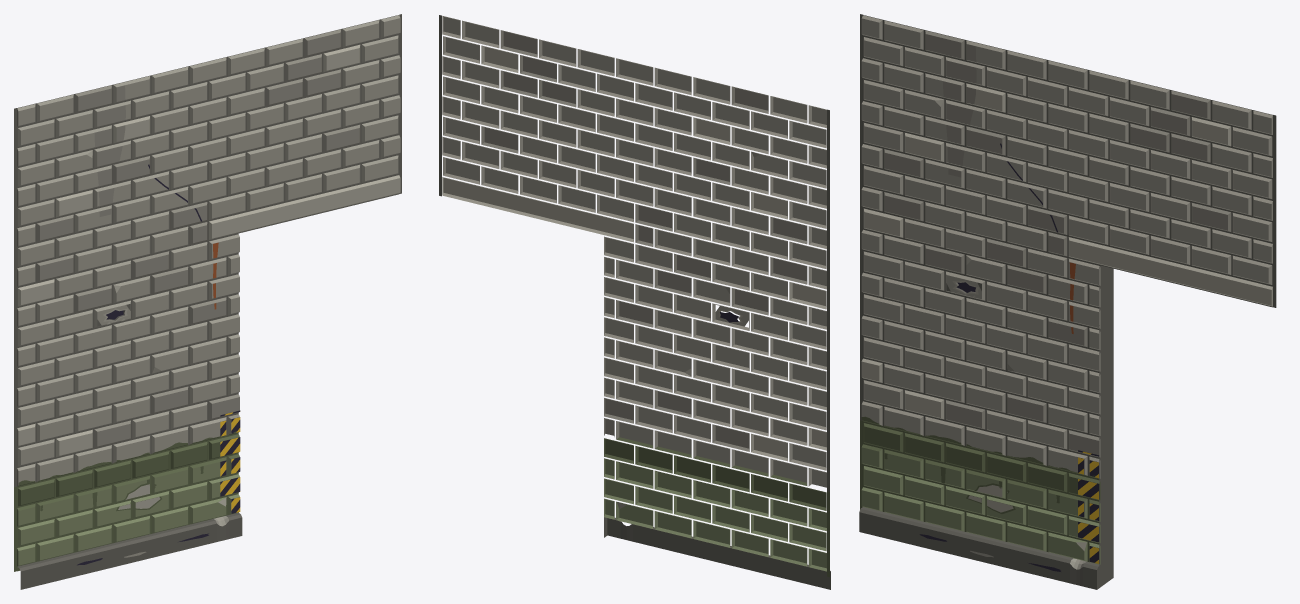
Rendered from wall_panel_pass_b.glb.
3 views of the same model, side by side, from view 1: azimuth 30°, elevation 25°; view 2: azimuth 150°, elevation 25°; view 3: azimuth 330°, elevation 25° (orthographic). The views are drawn at different scales.
Visible parts, largest first — view 1: Wall; view 2: Wall; view 3: Wall.
Part boxes in pixels (x1,y1,x2,y2): Wall: (14, 14, 401, 589); Wall: (439, 15, 830, 589); Wall: (859, 14, 1276, 589).
Bounding box in the file's own units: 5.08 × 6 × 0.3525.
